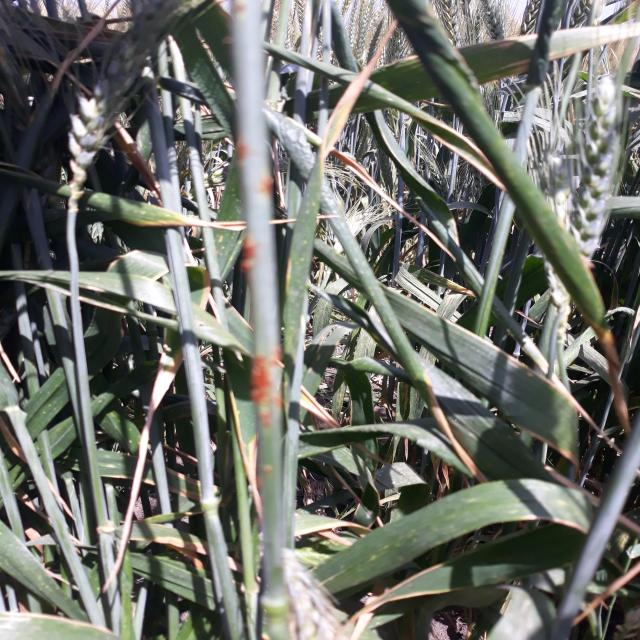black_stem_rust: (198, 8, 316, 640)
